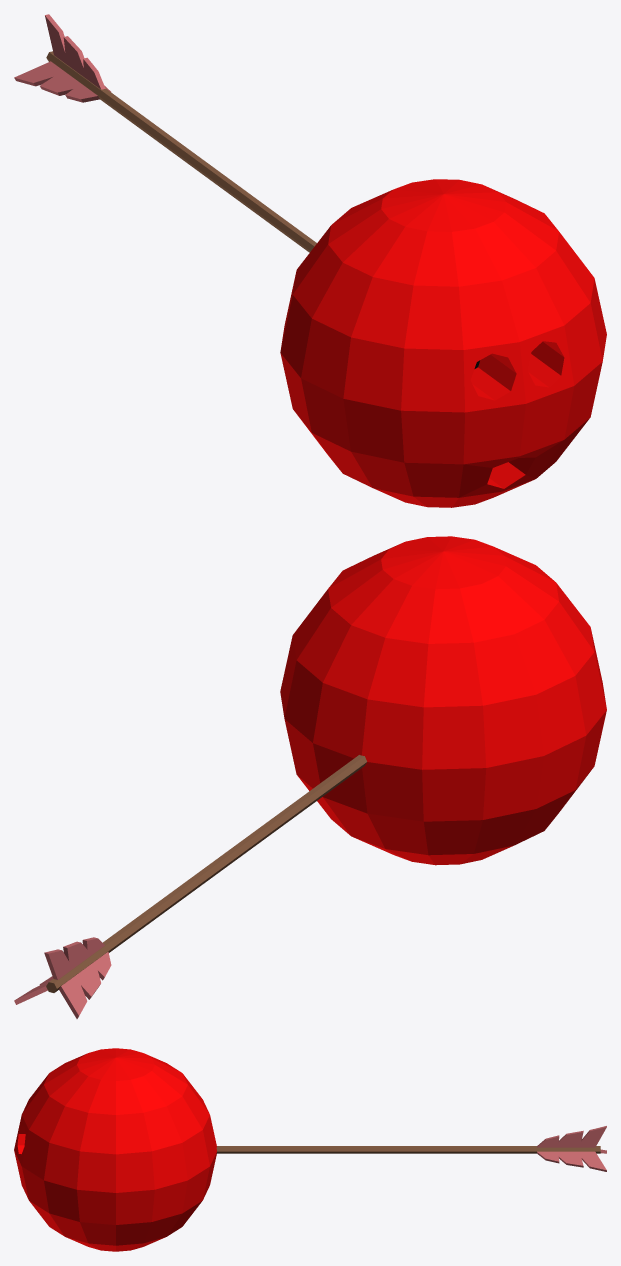
File: Boling_arrow_3.fbx
3 views of the same model, one above another, from view 1: azimuth 30°, elevation 25°; view 2: azimuth 150°, elevation 25°; view 3: azimuth 270°, elevation 25° (orthographic). The views are drawn at different scales.
Visible parts, largest first — view 1: Arrow.002; view 2: Arrow.002; view 3: Arrow.002.
Part boxes in pixels (x1,y1,x2,y2): Arrow.002: (14, 14, 606, 507); Arrow.002: (14, 536, 606, 1018); Arrow.002: (14, 1048, 606, 1251).
Size of the model in its own units: 120 by 120 by 349.
